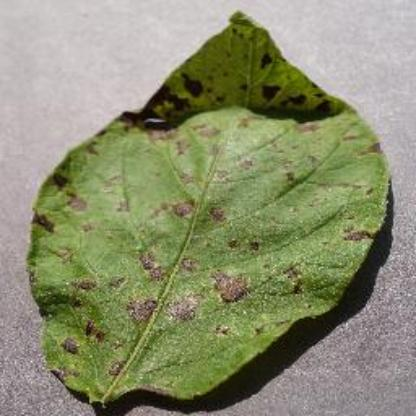Early-Blight: (28, 4, 396, 412)
